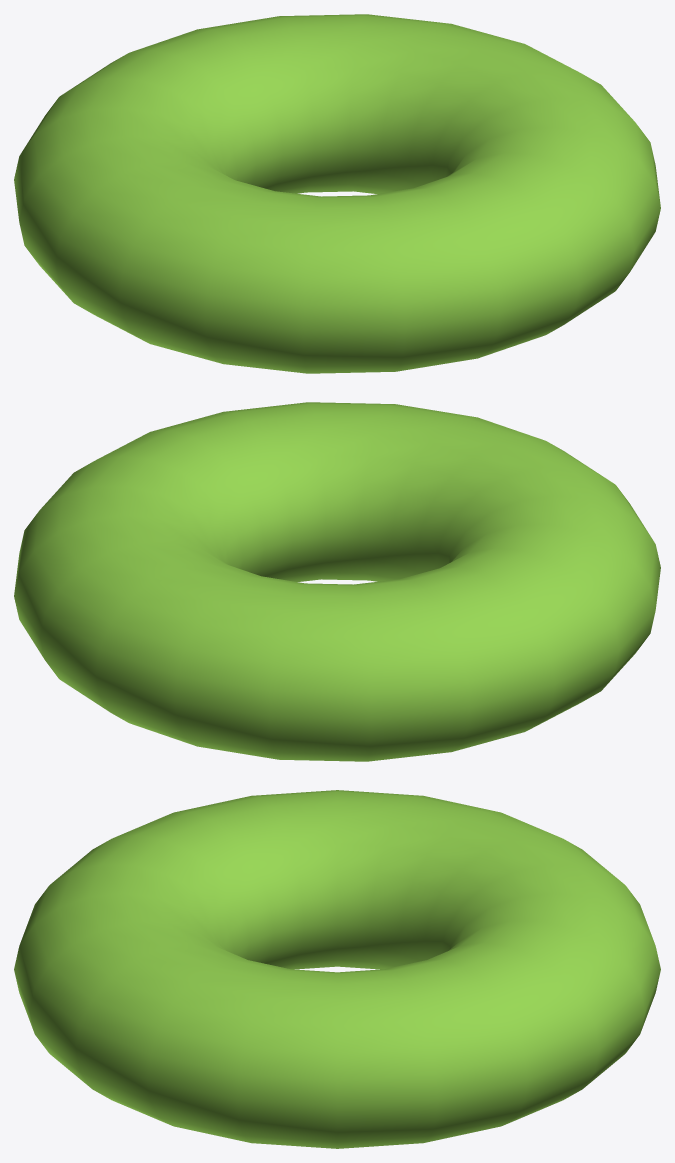
The model's file is toroide2.obj.
3 renders of one model, top to bottom at view 1: azimuth 30°, elevation 25°; view 2: azimuth 150°, elevation 25°; view 3: azimuth 270°, elevation 25°, orthographic.
Parts seen in each view (by area): view 1: pasted__pTorus1 group7; view 2: pasted__pTorus1 group7; view 3: pasted__pTorus1 group7.
Boxes of the visible parts, x1=… form: pasted__pTorus1 group7: x1=14, y1=14, x2=660, y2=373; pasted__pTorus1 group7: x1=14, y1=402, x2=660, y2=761; pasted__pTorus1 group7: x1=14, y1=790, x2=660, y2=1148.
Bounding box in the file's own units: 7.86 × 2.04 × 7.86.
1 material, 1 textured.
